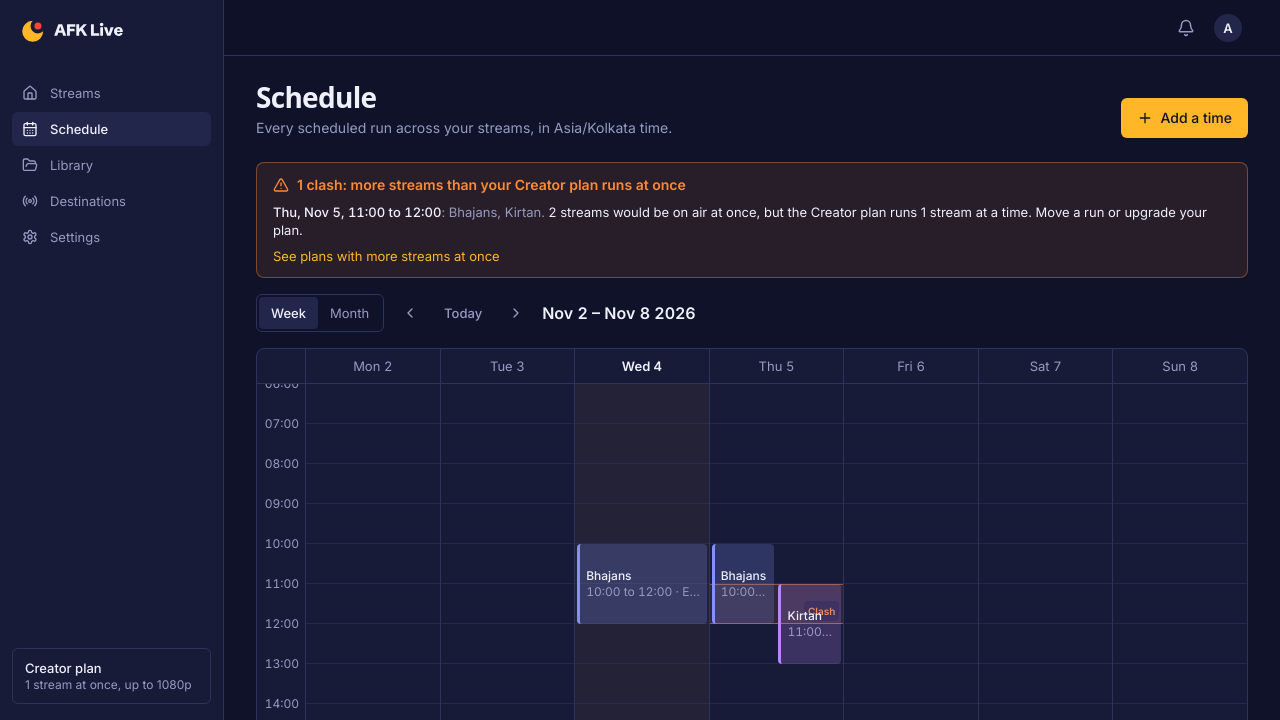
it: Schedule calendar › asks for a six-week grid for a month that needs one
The image size is (1280, 720).
(page scrolled)
Expected: the element named "Clashes" is shown, [256,162,1248,278]
Click the radio button labelled "Month".
click(350, 313)  # box [318,297,381,329]
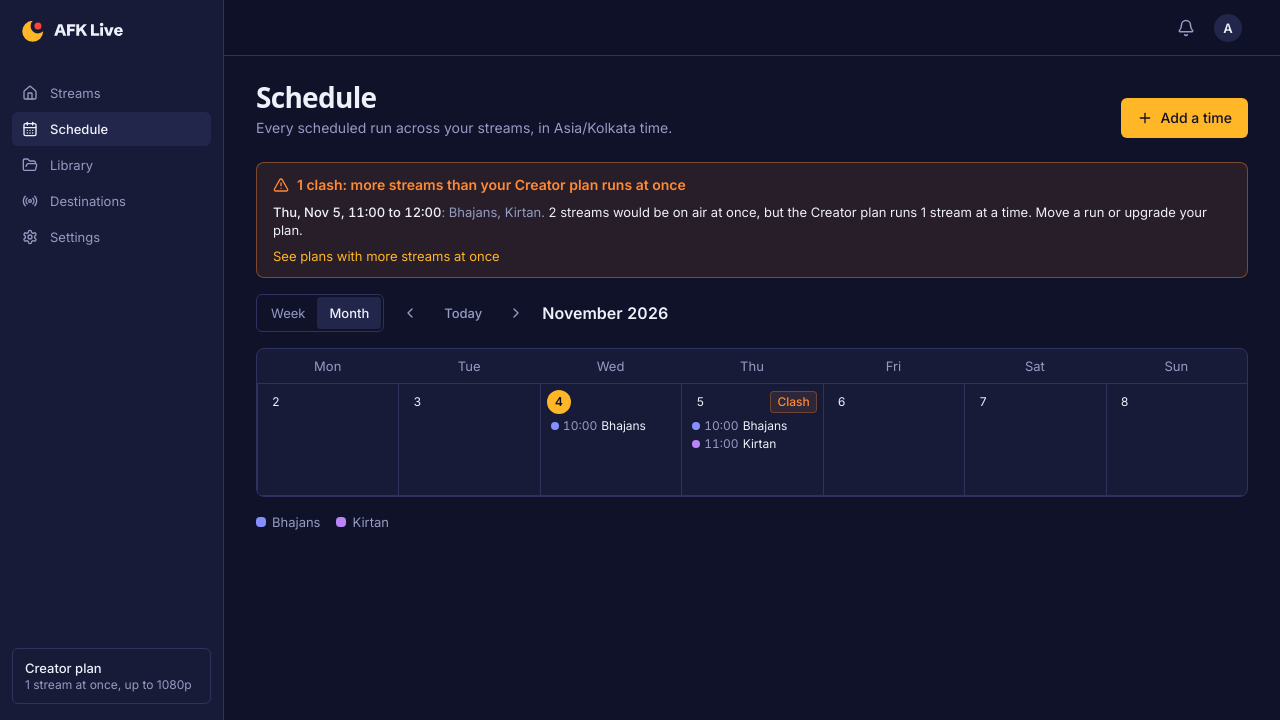
Expected: the heading "November 2026" is shown, [542,302,668,324]
